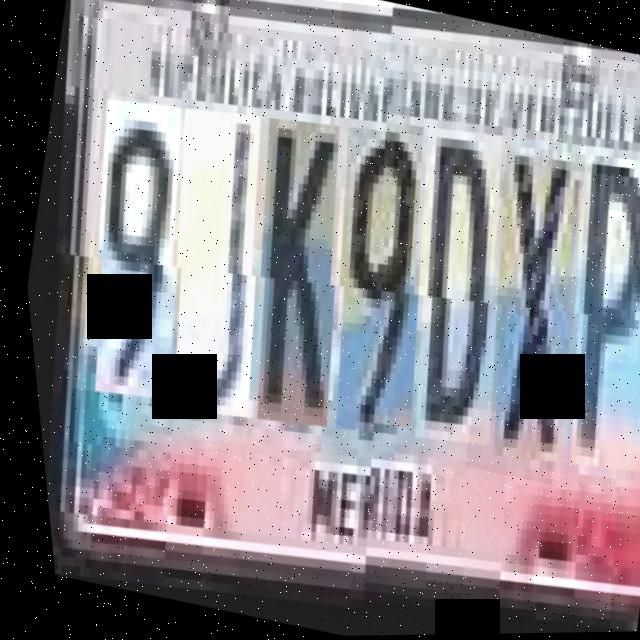9: (278, 127, 461, 449), (41, 93, 219, 407)
D: (355, 137, 541, 469)
J: (117, 105, 298, 427)
K: (199, 116, 377, 437)
P: (510, 160, 640, 499)
X: (431, 150, 615, 488)
